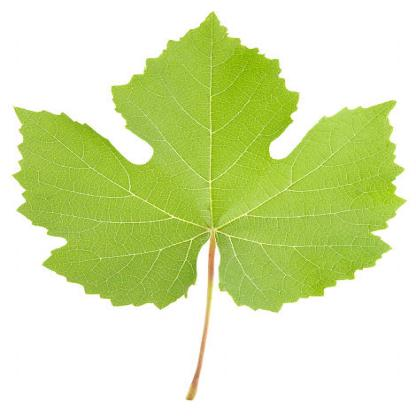grape leaf: (4, 6, 404, 368)
